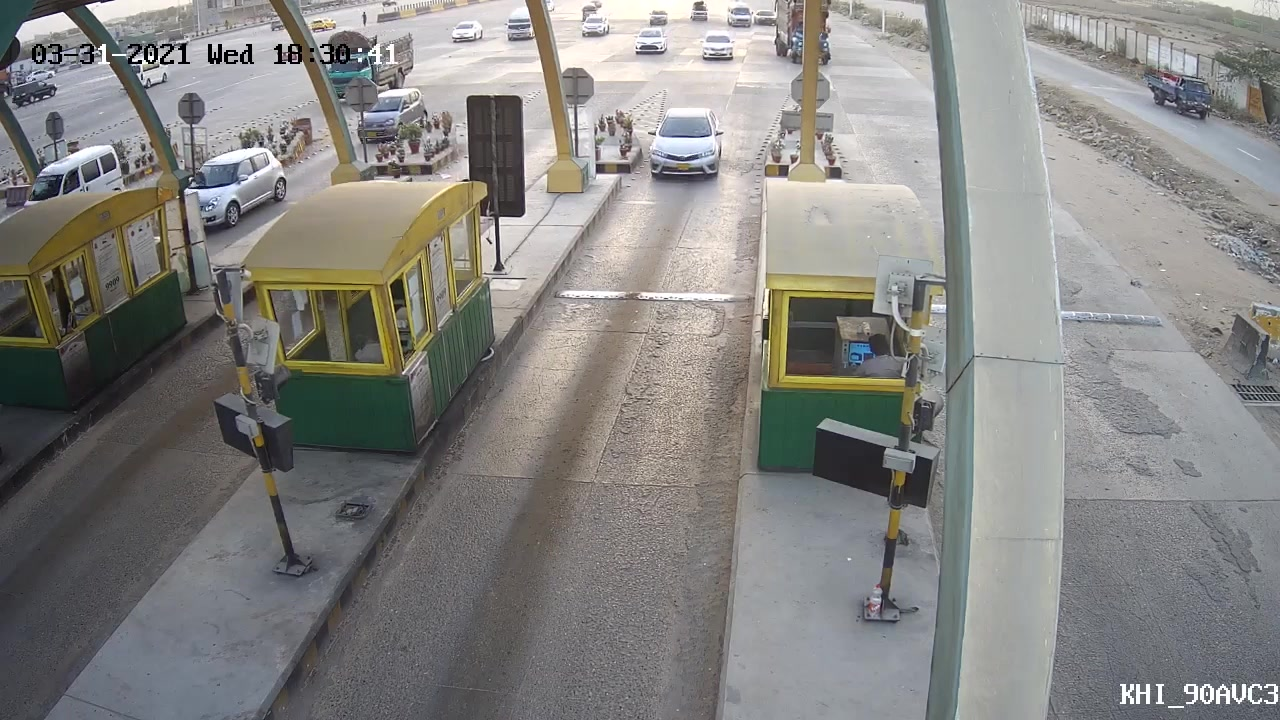F1: (643, 101, 732, 193)
